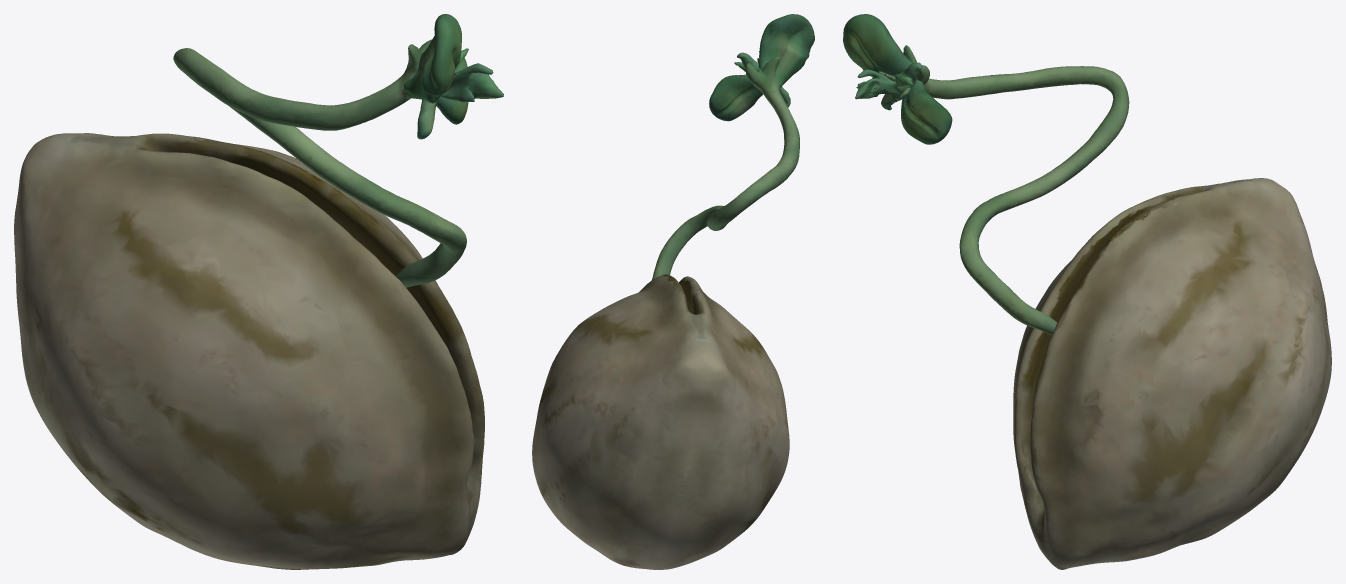
Rendered from seed.glb.
3 renders of one model, left to right at view 1: azimuth 30°, elevation 25°; view 2: azimuth 150°, elevation 25°; view 3: azimuth 270°, elevation 25°, orthographic. The views are drawn at different scales.
Visible parts, largest first — view 1: Layer_1__0; view 2: Layer_1__0; view 3: Layer_1__0.
Boxes of the visible parts, x1,y1,x2,y2 form: Layer_1__0: [14, 14, 503, 569]; Layer_1__0: [532, 14, 814, 569]; Layer_1__0: [843, 14, 1331, 569].
Bounding box in the file's own units: 0.0672 × 0.1209 × 0.104.
